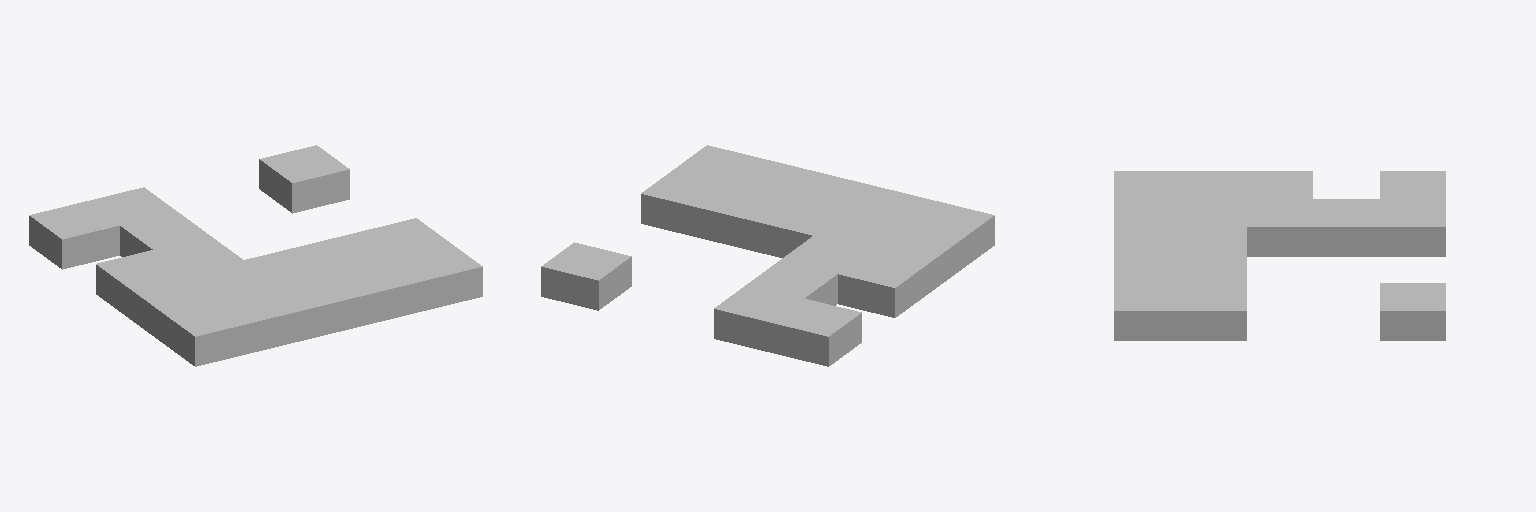
Rendered from 83s_block.obj.
3 renders of one model, left to right at view 1: azimuth 30°, elevation 25°; view 2: azimuth 150°, elevation 25°; view 3: azimuth 270°, elevation 25°, orthographic.
Parts seen in each view (by area): view 1: block.0.4_block.5343, block.0.0_block.5339, block.4.4_block.5355, block.4.0_block.5353, block.2.0_block.5349, block.1.0_block.5344, block.3.0_block.5351, block.0.2_block.5341, block.0.1_block.5340, block.1.3_block.5347, block.1.1_block.5345, block.2.1_block.5350 (+4 smaller); view 2: block.4.4_block.5355, block.0.4_block.5343, block.0.2_block.5341, block.3.1_block.5352, block.4.1_block.5354, block.1.4_block.5348, block.2.1_block.5350, block.0.1_block.5340, block.0.0_block.5339, block.1.3_block.5347, block.2.0_block.5349, block.1.1_block.5345 (+4 smaller); view 3: block.1.3_block.5347, block.4.1_block.5354, block.1.2_block.5346, block.1.4_block.5348, block.4.0_block.5353, block.4.4_block.5355, block.0.1_block.5340, block.1.1_block.5345, block.2.1_block.5350, block.3.1_block.5352, block.0.0_block.5339, block.0.2_block.5341 (+4 smaller).
Boxes of the visible parts, <box> form: block.0.4_block.5343: <box>29,201,119,269</box>; block.0.0_block.5339: <box>162,298,252,366</box>; block.4.4_block.5355: <box>259,145,349,213</box>; block.4.0_block.5353: <box>392,242,482,310</box>; block.2.0_block.5349: <box>277,270,367,338</box>; block.1.0_block.5344: <box>220,285,309,352</box>; block.3.0_block.5351: <box>335,257,424,324</box>; block.0.2_block.5341: <box>96,250,184,317</box>; block.0.1_block.5340: <box>129,274,218,341</box>; block.1.3_block.5347: <box>120,212,209,256</box>; block.1.1_block.5345: <box>187,260,276,297</box>; block.2.1_block.5350: <box>244,246,333,283</box>; block.4.4_block.5355: <box>541,242,631,310</box>; block.0.4_block.5343: <box>771,298,861,366</box>; block.0.2_block.5341: <box>838,250,927,317</box>; block.3.1_block.5352: <box>698,183,788,251</box>; block.4.1_block.5354: <box>641,169,730,237</box>; block.1.4_block.5348: <box>714,285,803,352</box>; block.2.1_block.5350: <box>756,198,846,257</box>; block.0.1_block.5340: <box>871,226,961,293</box>; block.0.0_block.5339: <box>904,201,994,268</box>; block.1.3_block.5347: <box>747,260,837,305</box>; block.2.0_block.5349: <box>789,173,878,210</box>; block.1.1_block.5345: <box>814,212,903,249</box>; block.1.3_block.5347: <box>1313,199,1379,256</box>; block.4.1_block.5354: <box>1180,283,1246,340</box>; block.1.2_block.5346: <box>1247,199,1312,256</box>; block.1.4_block.5348: <box>1380,199,1445,256</box>; block.4.0_block.5353: <box>1114,283,1179,340</box>; block.4.4_block.5355: <box>1380,283,1445,340</box>; block.0.1_block.5340: <box>1180,171,1246,198</box>; block.1.1_block.5345: <box>1180,199,1246,226</box>; block.2.1_block.5350: <box>1180,227,1246,254</box>; block.3.1_block.5352: <box>1180,255,1246,282</box>; block.0.0_block.5339: <box>1114,171,1179,198</box>; block.0.2_block.5341: <box>1247,171,1312,198</box>.
Size of the model in its own units: 10 by 1 by 10.